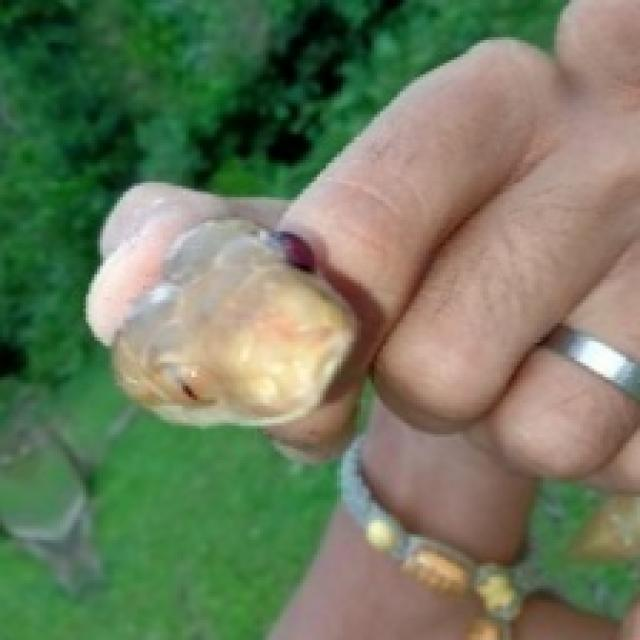philippine cat snake: (111, 220, 354, 426), (111, 220, 354, 423)
